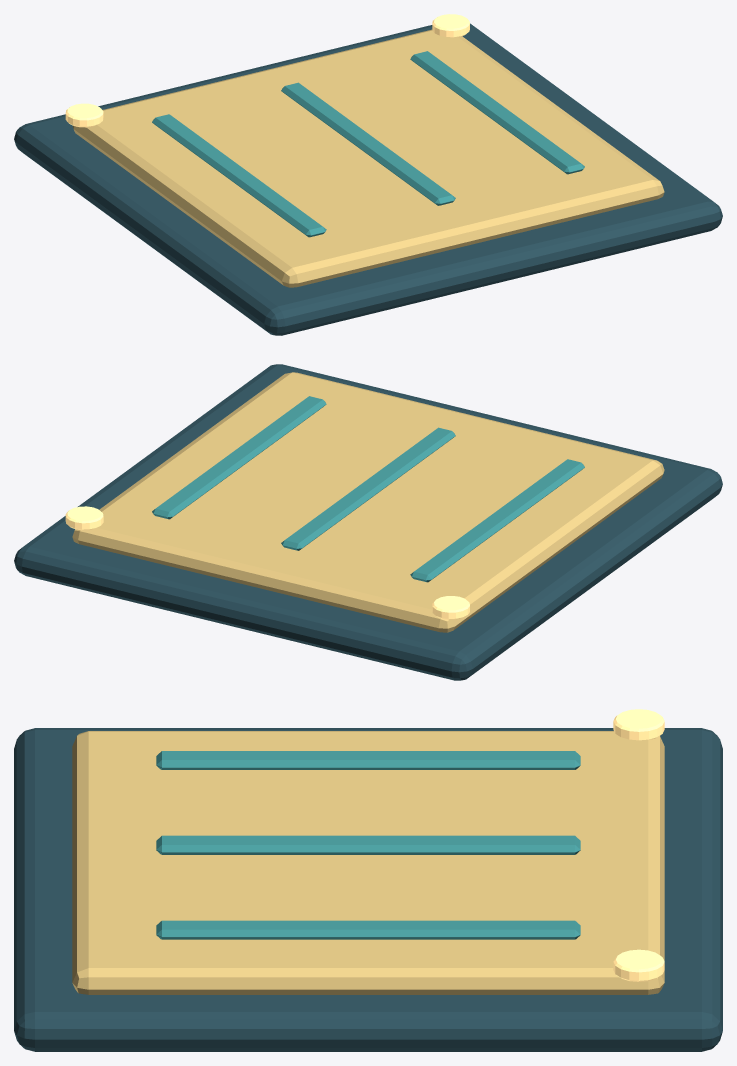
File: city_plate.glb
The picture shows the model from 3 angles, top to bottom: view 1: azimuth 30°, elevation 25°; view 2: azimuth 150°, elevation 25°; view 3: azimuth 270°, elevation 25°; orthographic projection. The views are drawn at different scales.
Parts seen in each view (by area): view 1: Batched City v2 transit cream, Batched City v2 deep window reveals, Batched City v2 transit enamel, Batched City v2 butterlit windows; view 2: Batched City v2 transit cream, Batched City v2 deep window reveals, Batched City v2 transit enamel, Batched City v2 butterlit windows; view 3: Batched City v2 transit cream, Batched City v2 deep window reveals, Batched City v2 transit enamel, Batched City v2 butterlit windows.
Part boxes in pixels (left/top/right/bottom): Batched City v2 transit cream: left=72, top=29, right=664, bottom=287; Batched City v2 deep window reveals: left=14, top=23, right=722, bottom=335; Batched City v2 transit enamel: left=152, top=51, right=584, bottom=237; Batched City v2 butterlit windows: left=65, top=14, right=469, bottom=127; Batched City v2 transit cream: left=72, top=372, right=664, bottom=632; Batched City v2 deep window reveals: left=14, top=364, right=722, bottom=680; Batched City v2 transit enamel: left=152, top=396, right=584, bottom=582; Batched City v2 butterlit windows: left=65, top=506, right=469, bottom=619; Batched City v2 transit cream: left=72, top=731, right=664, bottom=994; Batched City v2 deep window reveals: left=14, top=728, right=722, bottom=1051; Batched City v2 transit enamel: left=156, top=751, right=580, bottom=939; Batched City v2 butterlit windows: left=613, top=709, right=664, bottom=981.
Bounding box in the file's own units: 1.52 × 0.165 × 1.52.
